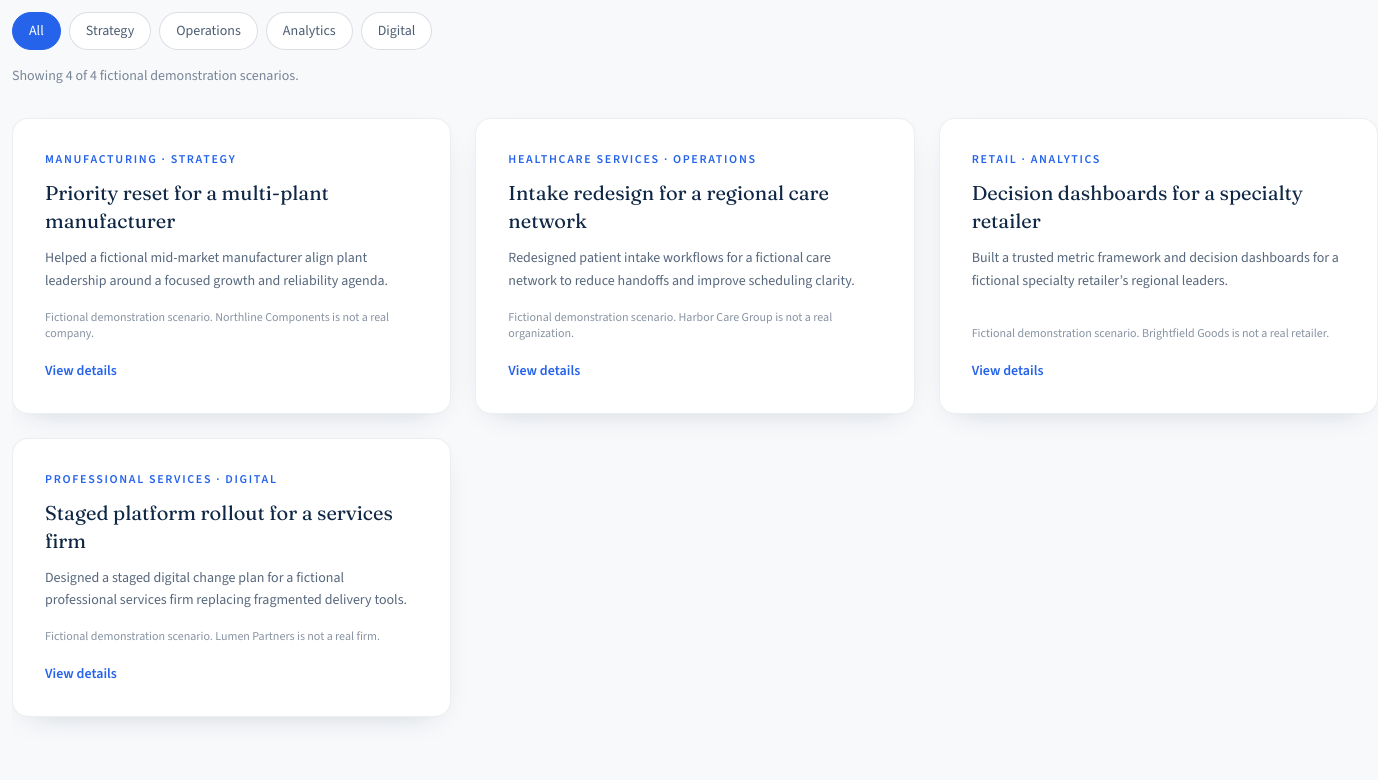
Test: case-study filtering › updates the visible list through pressed filter buttons
The width and height of the screenshot is (1378, 780).
Click the button "Analytics".
click(309, 31)  # box [266,12,353,50]
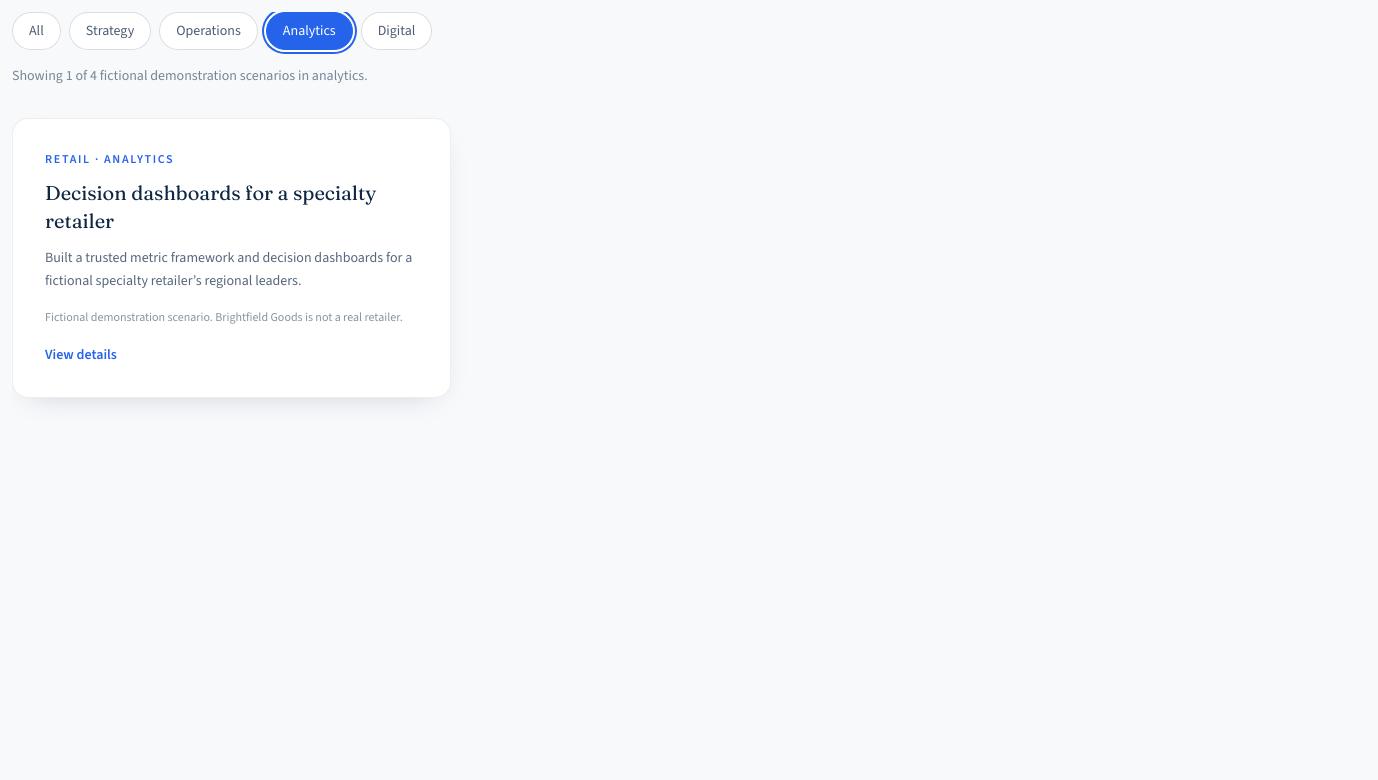
Check: the text "Showing 1 of 4" is shown, box [12,66,368,85]
